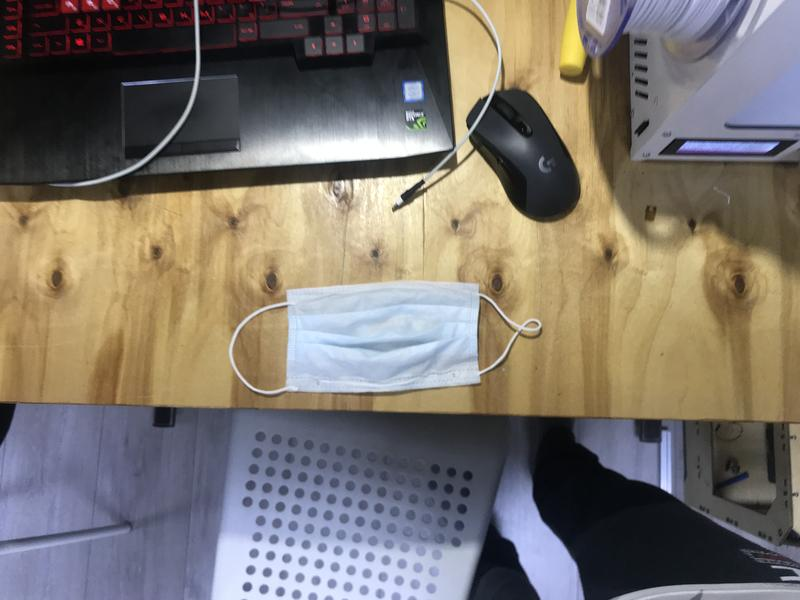medical_mask: (229, 285, 542, 398)
